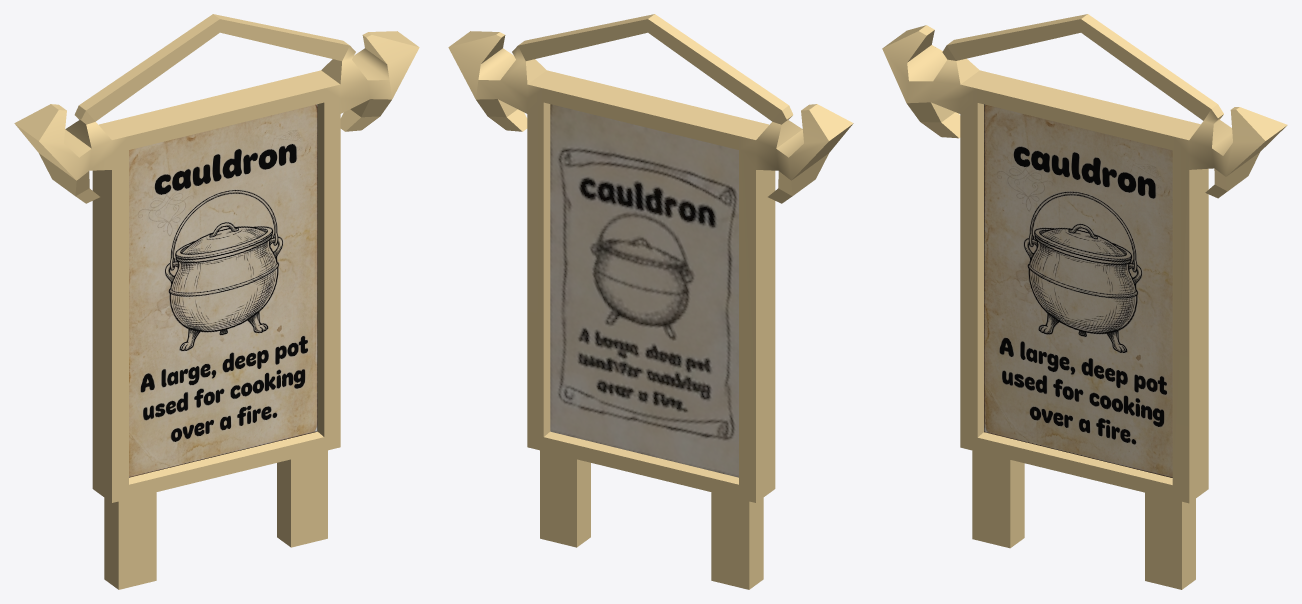
Rendered from cauldron.fbx.
3 views of the same model, side by side, from view 1: azimuth 30°, elevation 25°; view 2: azimuth 150°, elevation 25°; view 3: azimuth 330°, elevation 25° (orthographic).
Parts seen in each view (by area): view 1: cauldron; view 2: cauldron; view 3: cauldron.
Part boxes in pixels (x1,y1,x2,y2): cauldron: (14,14,419,589); cauldron: (448,14,853,589); cauldron: (882,14,1287,589).
Bounding box in the file's own units: 6.69 × 9.09 × 1.16.
